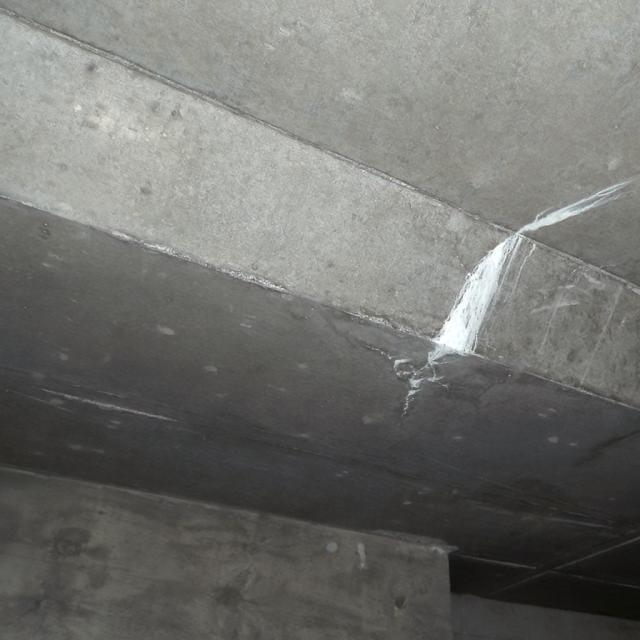D01: (430, 234, 523, 361), (526, 182, 623, 233)
